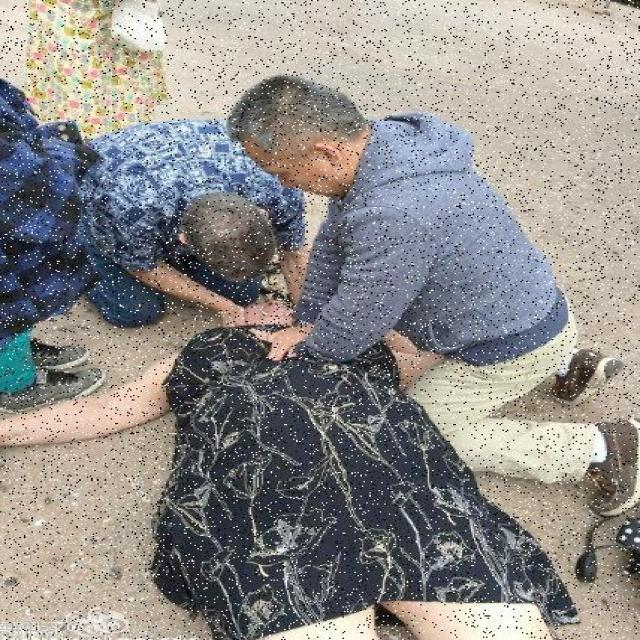fall: (148, 284, 528, 639)
